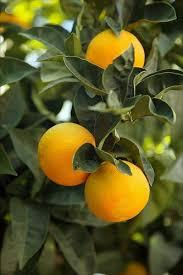orange: (87, 151, 147, 217), (35, 116, 89, 183), (86, 31, 152, 77)
